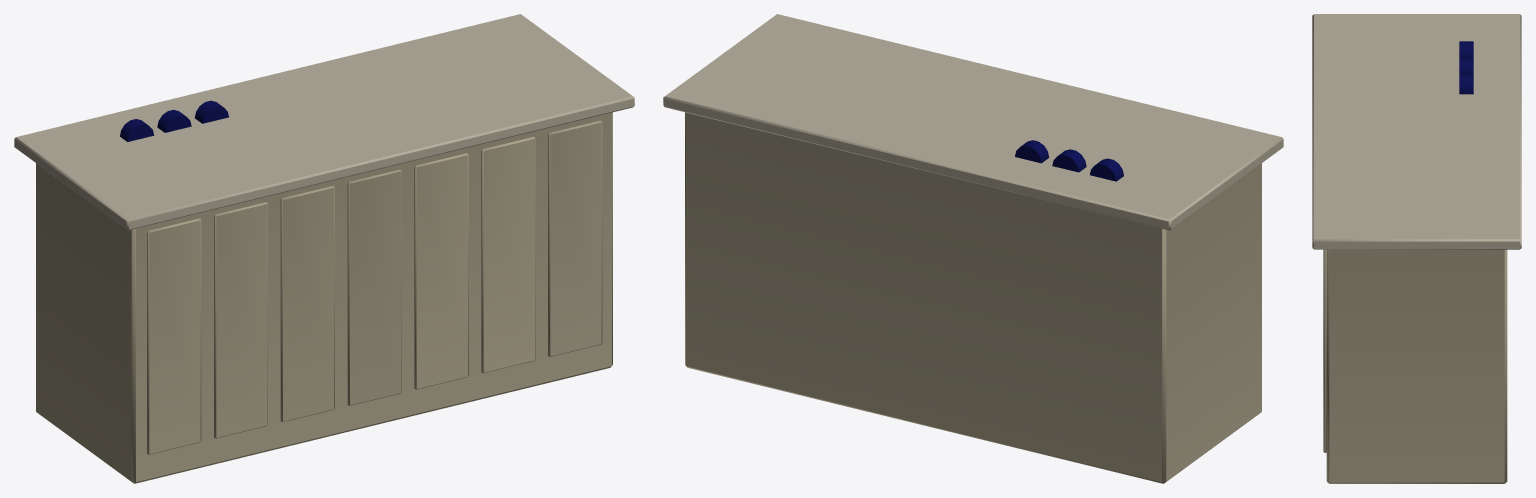
Rendered from mall-counter-cashier.glb.
The picture shows the model from 3 angles, left to right: view 1: azimuth 30°, elevation 25°; view 2: azimuth 150°, elevation 25°; view 3: azimuth 270°, elevation 25°; orthographic projection. The views are drawn at different scales.
Parts seen in each view (by area): view 1: body__plaster, top__marble, ribbon__fabric; view 2: body__plaster, top__marble, ribbon__fabric; view 3: top__marble, body__plaster, ribbon__fabric.
Boxes of the visible parts, x1,y1,x2,y2 form: body__plaster: (36,112,612,483); top__marble: (14,14,634,230); ribbon__fabric: (120,100,228,141); body__plaster: (685,112,1261,483); top__marble: (663,14,1283,230); ribbon__fabric: (1015,140,1123,181); top__marble: (1312,14,1521,249); body__plaster: (1323,249,1507,483); ribbon__fabric: (1459,41,1473,94).
Bounding box in the file's own units: 1.9 × 1.03 × 0.74.
